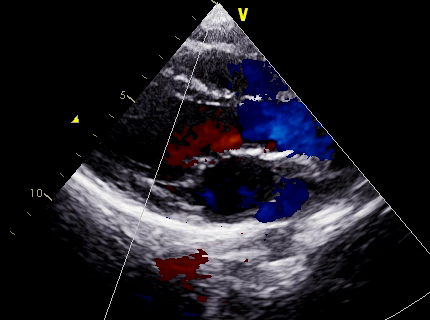AR: (189, 105, 247, 156)
